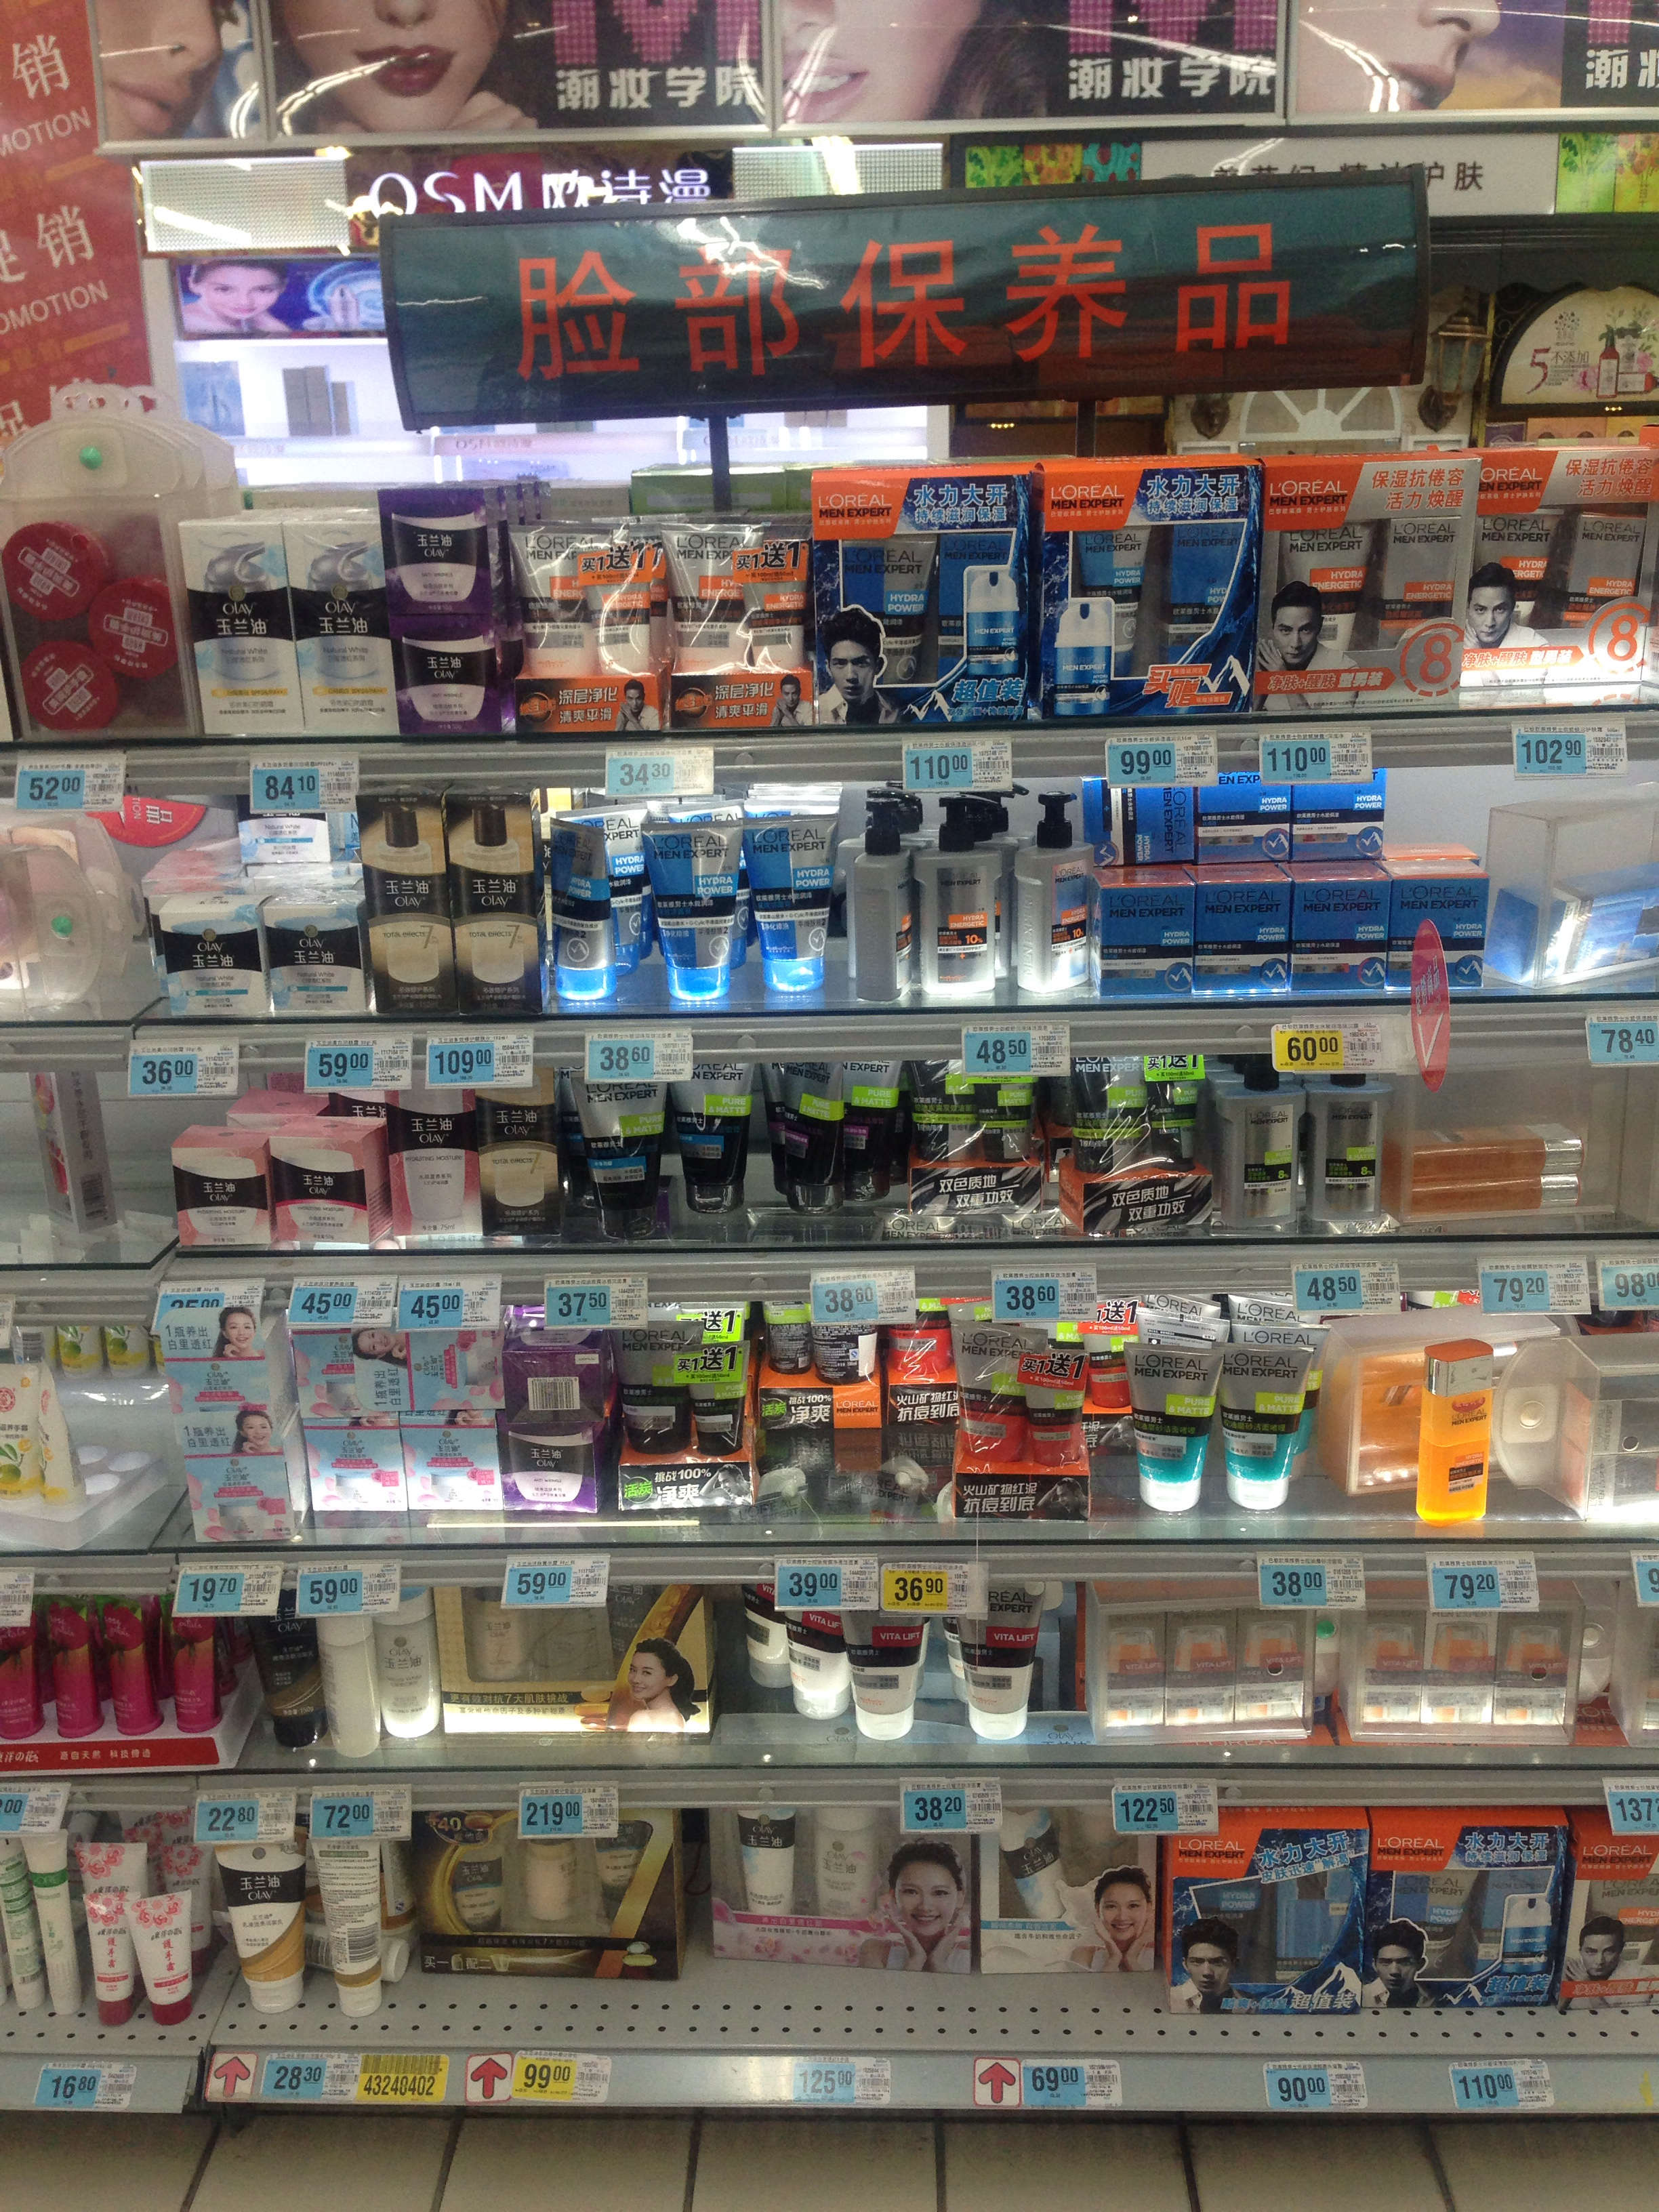product: (1035, 455, 1255, 716), (810, 474, 1021, 732), (1255, 456, 1466, 702), (1473, 446, 1659, 707), (437, 1571, 706, 1743), (3, 498, 190, 738), (708, 1804, 971, 1972), (422, 1810, 676, 1973), (1169, 1822, 1368, 2015), (1347, 1588, 1584, 1745), (1091, 1583, 1317, 1740), (1368, 1822, 1558, 2008), (511, 516, 657, 733), (951, 1305, 1098, 1519), (662, 516, 805, 733), (0, 806, 132, 1028), (979, 1806, 1154, 1973), (1046, 1057, 1215, 1228), (613, 1303, 746, 1507), (284, 514, 390, 742), (906, 1064, 1040, 1224), (364, 786, 453, 1019), (193, 516, 284, 740), (213, 1824, 310, 2020), (636, 819, 737, 1008), (999, 791, 1089, 1000), (558, 1059, 659, 1238), (915, 794, 999, 1008), (453, 794, 532, 1019), (376, 1064, 477, 1238), (755, 1296, 885, 1428), (838, 786, 915, 1008), (166, 1313, 288, 1451), (1124, 1332, 1215, 1514), (1405, 1341, 1495, 1522), (1216, 1341, 1307, 1514), (748, 815, 829, 1003), (0, 1355, 80, 1547), (880, 1308, 950, 1526), (1302, 1059, 1387, 1233), (542, 817, 619, 1010), (662, 1059, 749, 1224), (479, 1057, 556, 1240), (1218, 1061, 1300, 1230), (317, 1824, 387, 2015), (155, 904, 268, 1017), (244, 1575, 314, 1757), (392, 484, 490, 613), (1290, 869, 1389, 993), (951, 1585, 1033, 1733), (843, 1578, 920, 1735), (774, 1061, 850, 1217), (1096, 881, 1192, 1001), (1389, 871, 1483, 989), (162, 1146, 267, 1252), (401, 615, 488, 740), (760, 1433, 882, 1522), (270, 1136, 364, 1251), (1192, 883, 1288, 995), (267, 906, 361, 1017), (1290, 761, 1391, 864), (291, 1318, 403, 1411), (308, 1421, 399, 1533), (1096, 768, 1190, 873), (317, 1583, 373, 1759), (401, 1421, 500, 1519), (188, 1453, 291, 1547), (500, 1423, 598, 1521), (1190, 770, 1288, 867), (375, 1583, 434, 1743), (153, 1594, 220, 1735), (131, 1897, 202, 2020), (782, 1578, 843, 1714), (99, 1594, 153, 1743), (45, 1595, 98, 1749), (404, 1324, 493, 1413), (1408, 1139, 1581, 1184), (500, 1345, 599, 1423), (0, 1832, 40, 2012), (78, 1892, 131, 2022), (852, 1059, 897, 1209), (38, 1829, 73, 2019), (0, 1595, 44, 1747), (737, 1578, 784, 1700), (1401, 1184, 1588, 1212)
